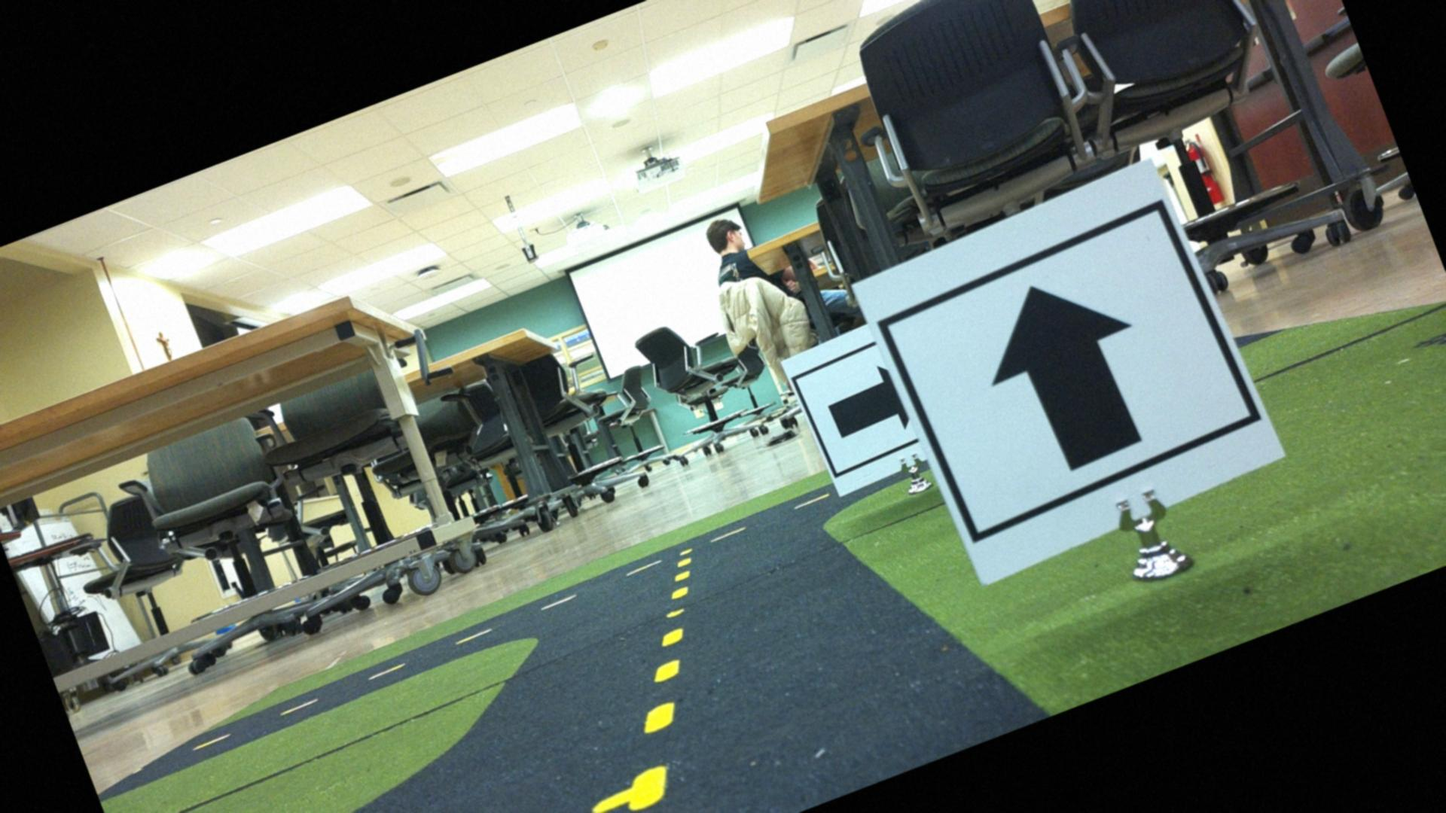gostraight: (871, 173, 1275, 601)
yellowline: (553, 545, 775, 812)
